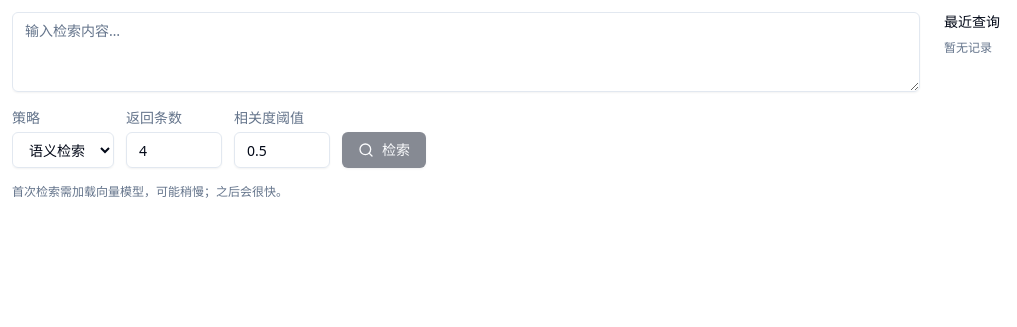
it: HitTestingView › 检索 → 调 hitDataset 并渲染结果
The width and height of the screenshot is (1017, 327).
Type "问题" into the text box labelled "检索内容" at (466, 52), box [12,12,920,92]
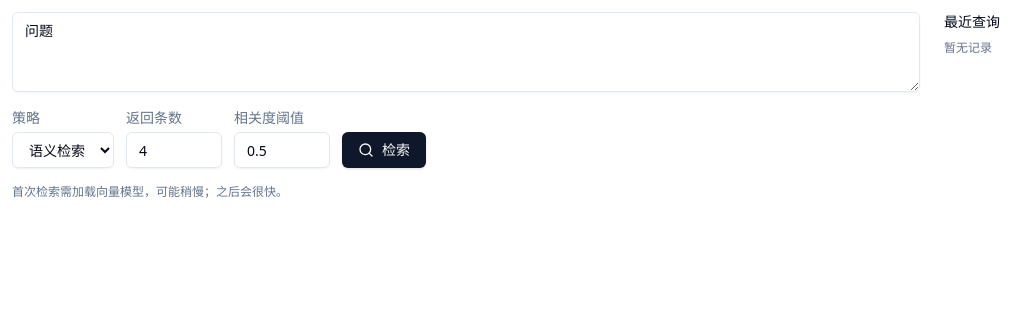
Click the button "检索" at (384, 150), box [342,132,426,168]
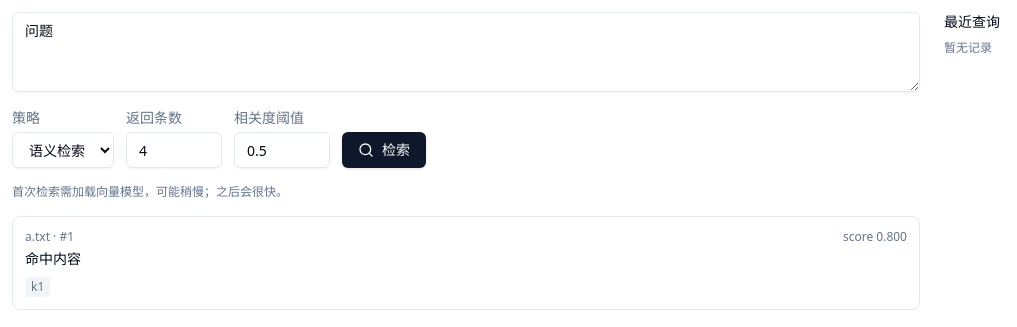
Expected: the text "命中内容" is shown, [25,249,81,268]
